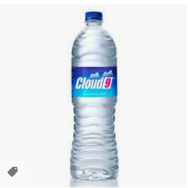Bottle: (71, 12, 119, 181)
